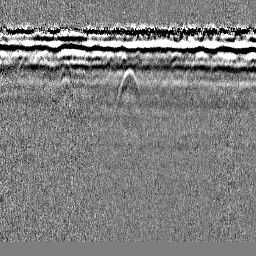cavity: (114, 65, 143, 113)
